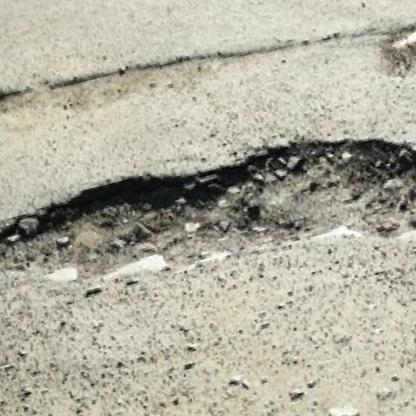pothole: (0, 88, 416, 355), (372, 31, 416, 85)
